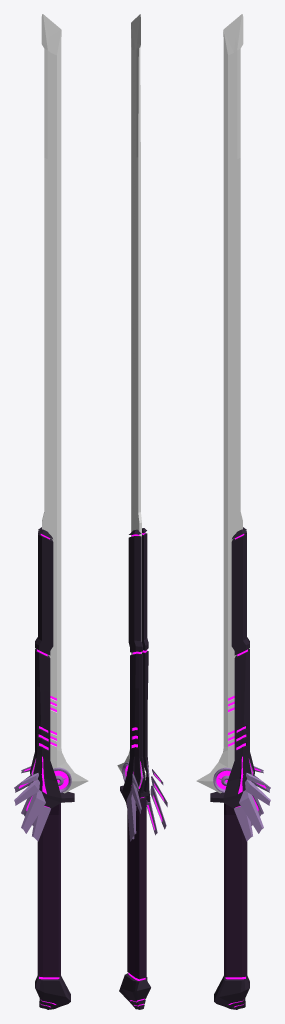
The model's file is weapon.katana.lod0.11edf86be9.glb.
The picture shows the model from 3 angles, left to right: view 1: azimuth 90°, elevation 25°; view 2: azimuth 210°, elevation 25°; view 3: azimuth 270°, elevation 25°; orthographic projection.
Visible parts, largest first — view 1: katana; view 2: katana; view 3: katana.
Boxes of the visible parts, left/top/right/bottom form: katana: left=14, top=14, right=88, bottom=1009; katana: left=117, top=14, right=167, bottom=1009; katana: left=196, top=14, right=270, bottom=1009.
Size of the model in its own units: 0.0339 by 1 by 0.0681.
